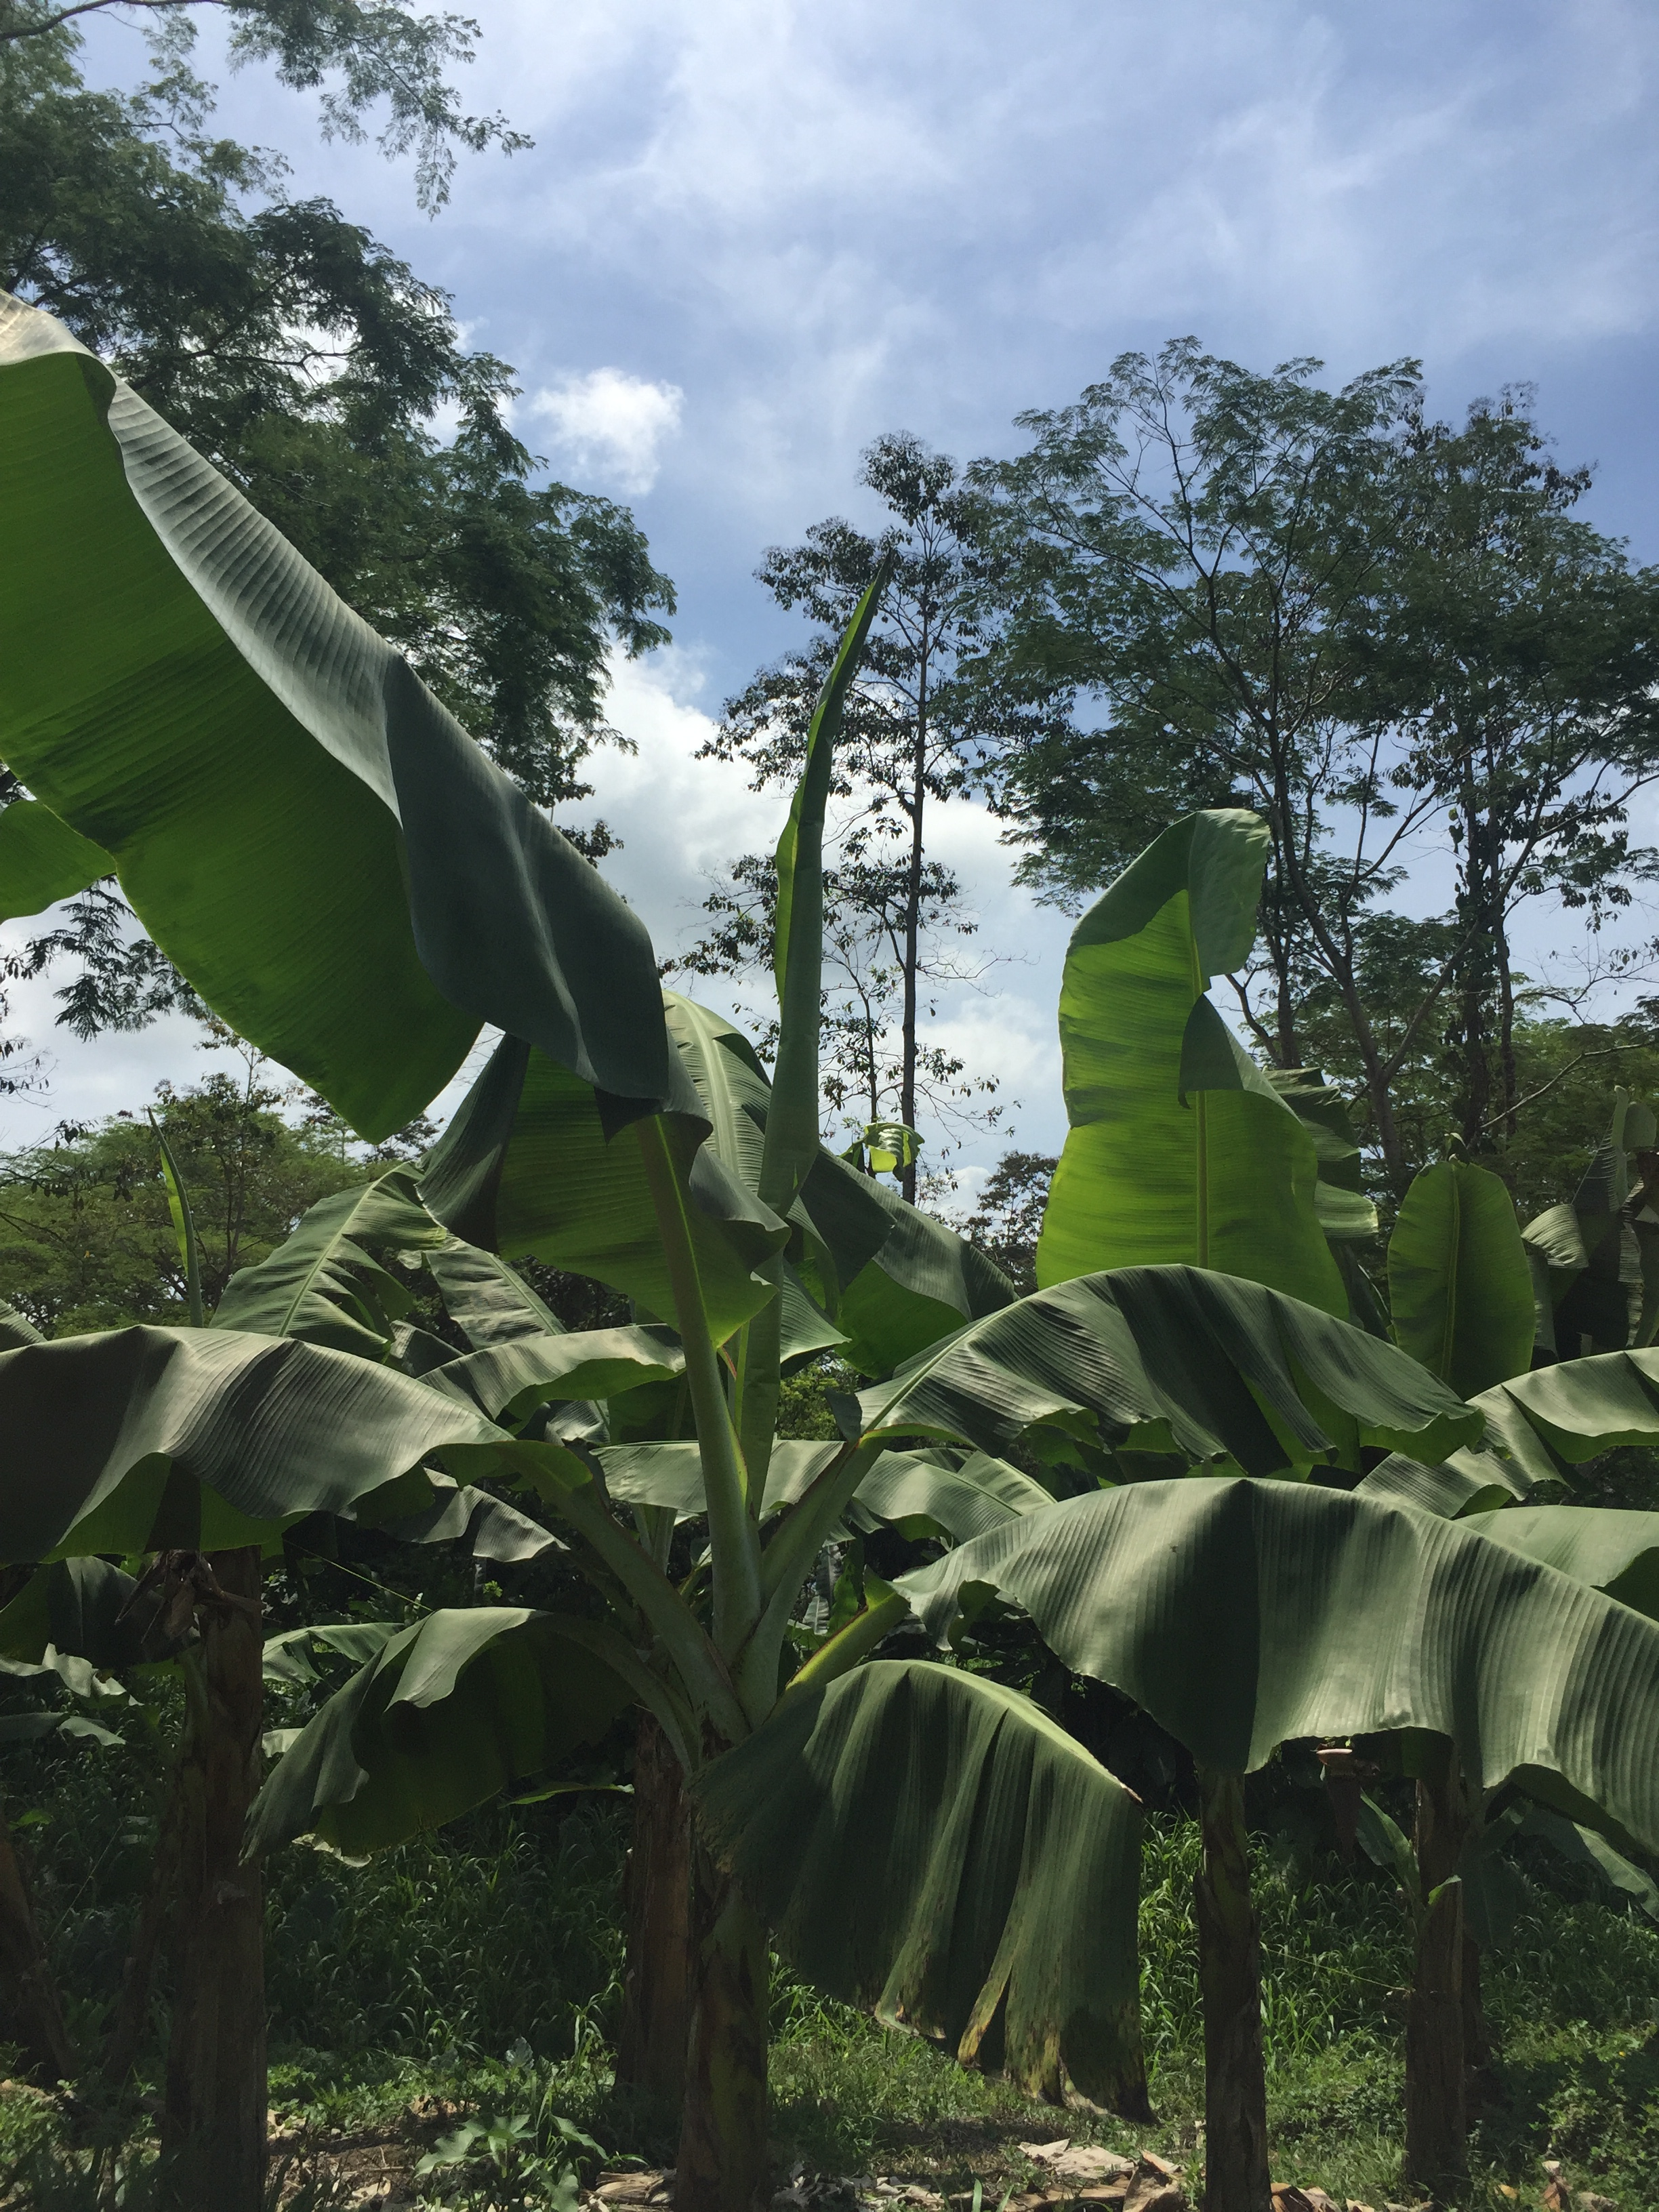candleleafs: (744, 550, 896, 1494), (141, 1106, 206, 1341)
